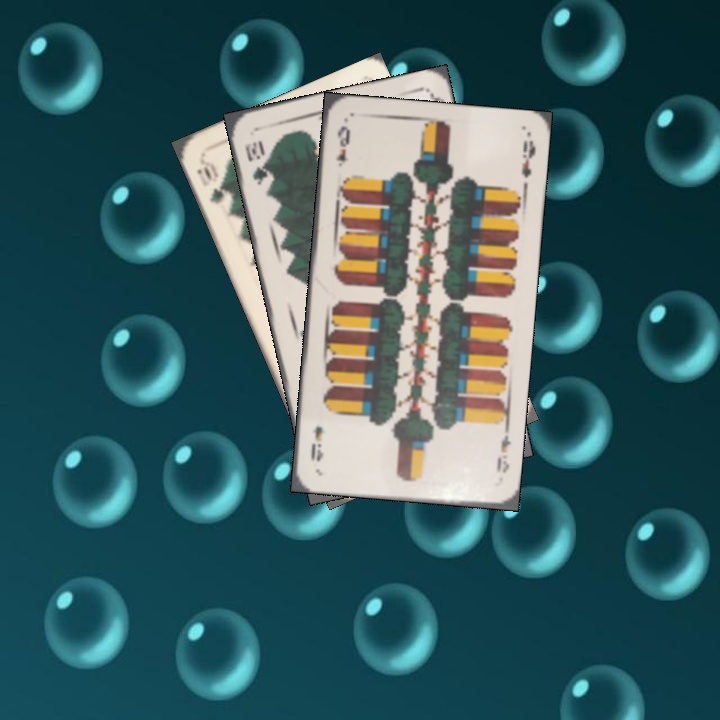E9: (492, 424, 513, 476), (332, 122, 353, 169)
G10: (195, 155, 229, 206), (241, 136, 271, 188)
